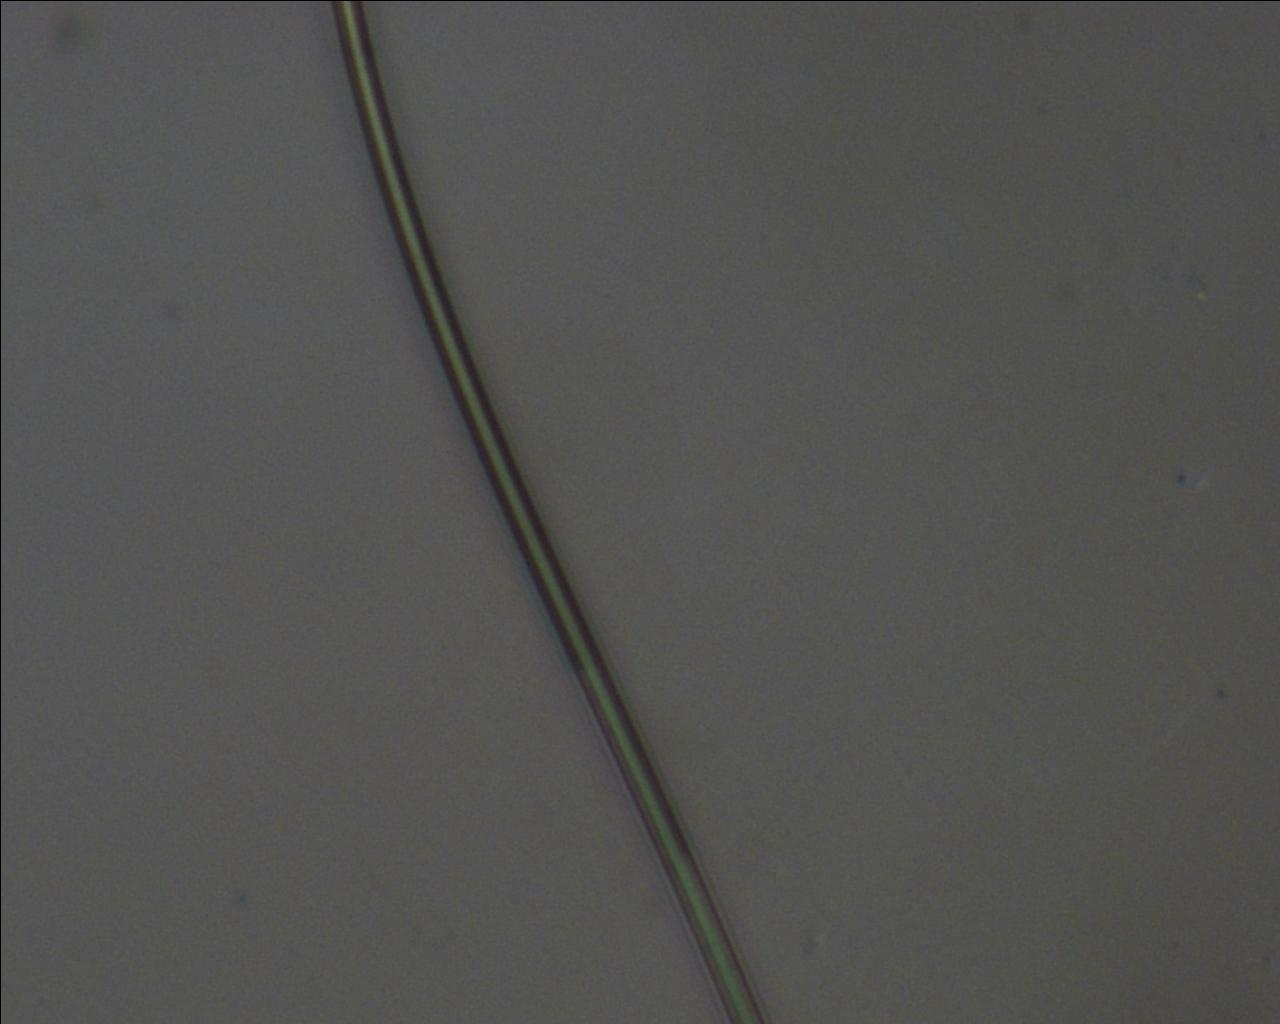fiber: (127, 277, 1151, 757)
